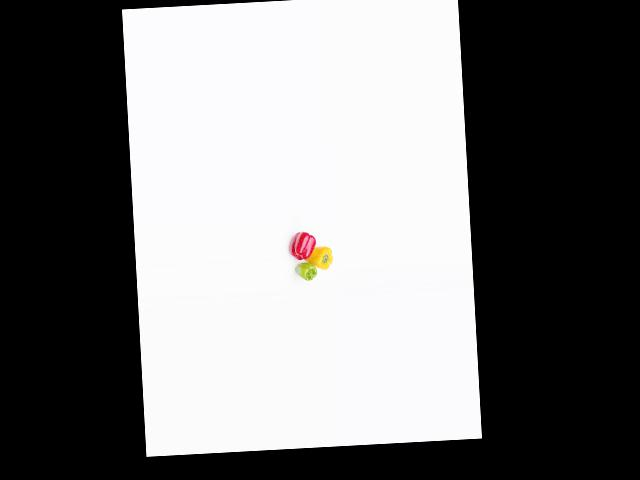bell_pepper: (294, 260, 319, 286)
